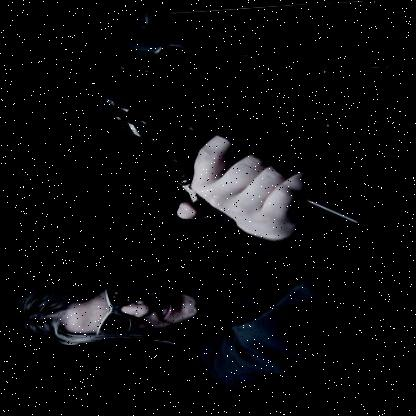rifle: (81, 0, 373, 255)
